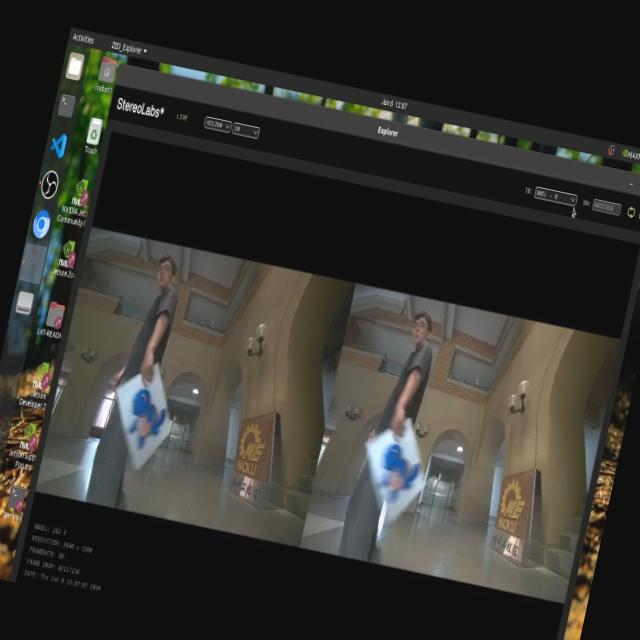blue: (366, 440, 430, 520), (116, 382, 172, 460)
